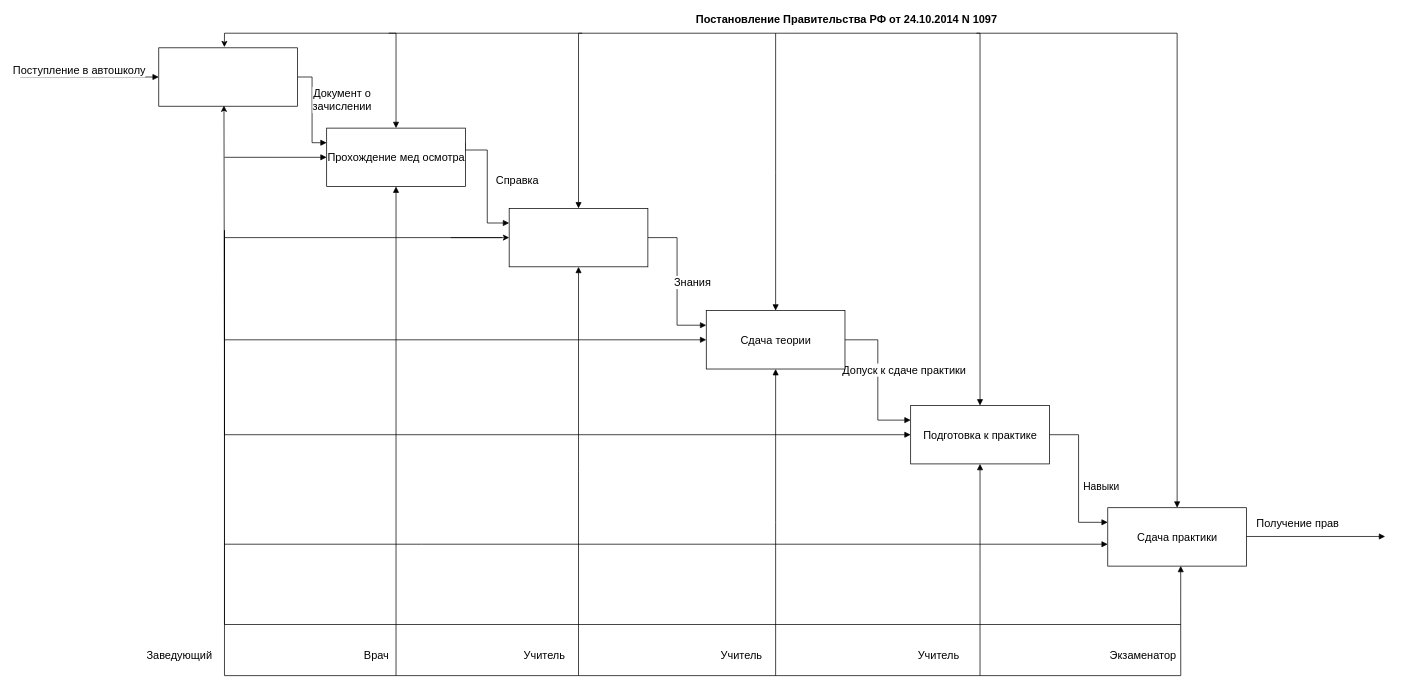
Some shapes in this 1404 by 694 pixel diagram are drawn without their labels. Each missing label, with the centre of its shape:
Зачисление в группу: (x=227, y=76)
Изучение теории: (x=578, y=237)
